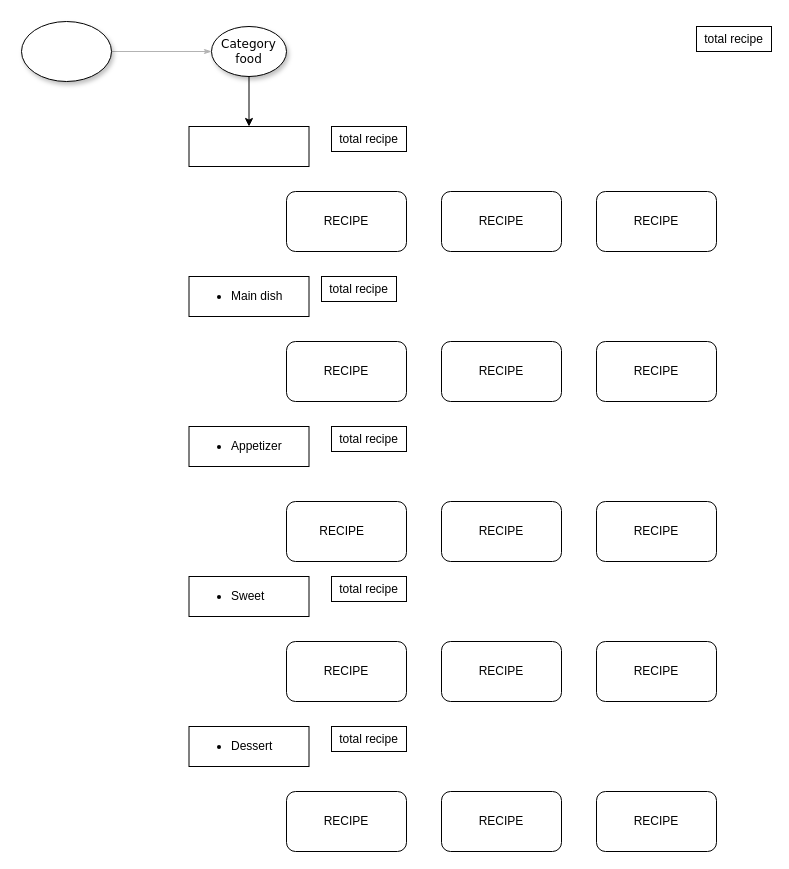
The diagram is 789 pixels wide and 869 high, and some of its shapes have lost their labels. The centre of each missing label's shape, as x and y in pixels:
Side Dish: (x=248, y=146)
Visayas: (x=67, y=52)
